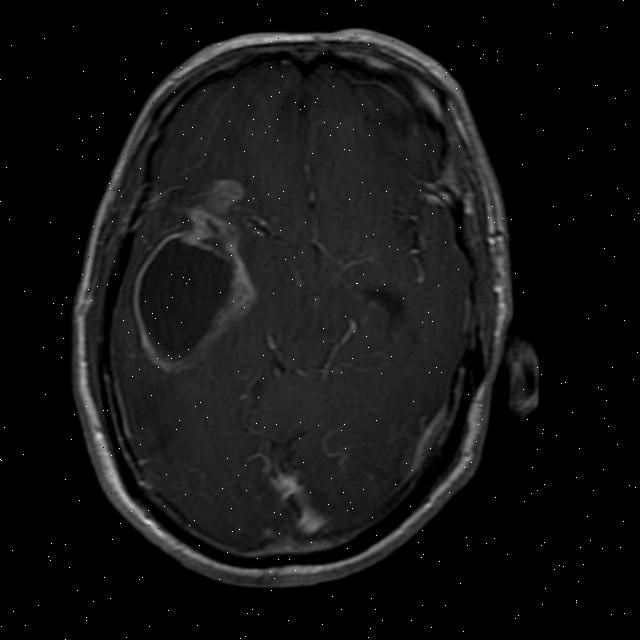Glioma: (125, 206, 262, 378), (197, 176, 248, 215)
